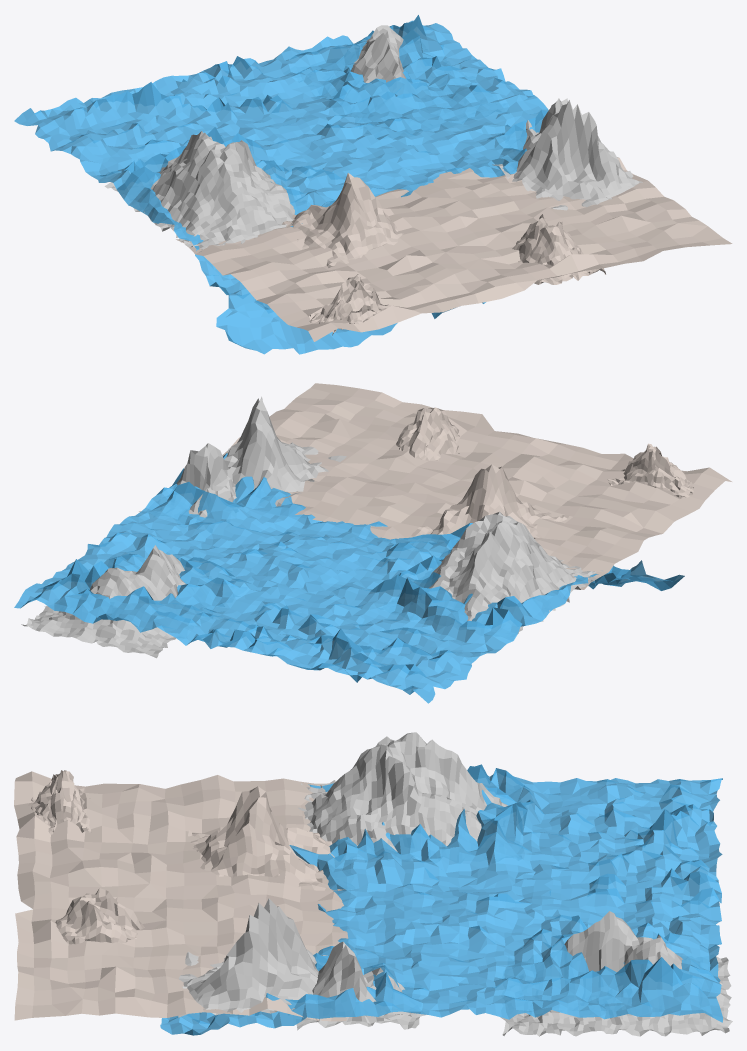
The model's file is seaCoast.dae.
3 renders of one model, top to bottom at view 1: azimuth 30°, elevation 25°; view 2: azimuth 150°, elevation 25°; view 3: azimuth 270°, elevation 25°, orthographic. The views are drawn at different scales.
Parts seen in each view (by area): view 1: Null (×4), Landschaft.1, Landschaft.3, Landschaft.2, Landschaft.4, Landschaft; view 2: Null (×4), Landschaft.1, Landschaft.3, Landschaft.2, Landschaft, Landschaft.4; view 3: Null (×4), Landschaft.1, Landschaft.3, Landschaft, Landschaft.2, Landschaft.4.
Boxes of the visible parts, x1=… form: Null (×4): x1=14, y1=15, x2=732, y2=354; Landschaft.1: x1=492, y1=100, x2=642, y2=210; Landschaft.3: x1=282, y1=173, x2=403, y2=267; Landschaft.2: x1=510, y1=214, x2=605, y2=284; Landschaft.4: x1=307, y1=274, x2=391, y2=335; Landschaft: x1=523, y1=98, x2=567, y2=150; Null (×4): x1=14, y1=383, x2=731, y2=703; Landschaft.1: x1=224, y1=396, x2=346, y2=506; Landschaft.3: x1=397, y1=464, x2=569, y2=538; Landschaft.2: x1=396, y1=407, x2=460, y2=460; Landschaft: x1=139, y1=443, x2=236, y2=517; Landschaft.4: x1=607, y1=443, x2=693, y2=498; Null (×4): x1=14, y1=732, x2=732, y2=1036; Landschaft.1: x1=178, y1=898, x2=327, y2=1017; Landschaft.3: x1=188, y1=786, x2=345, y2=891; Landschaft: x1=296, y1=941, x2=426, y2=1030; Landschaft.2: x1=55, y1=888, x2=144, y2=944; Landschaft.4: x1=28, y1=770, x2=91, y2=834.
Bounding box in the file's own units: 54339 × 17003 × 65320.
